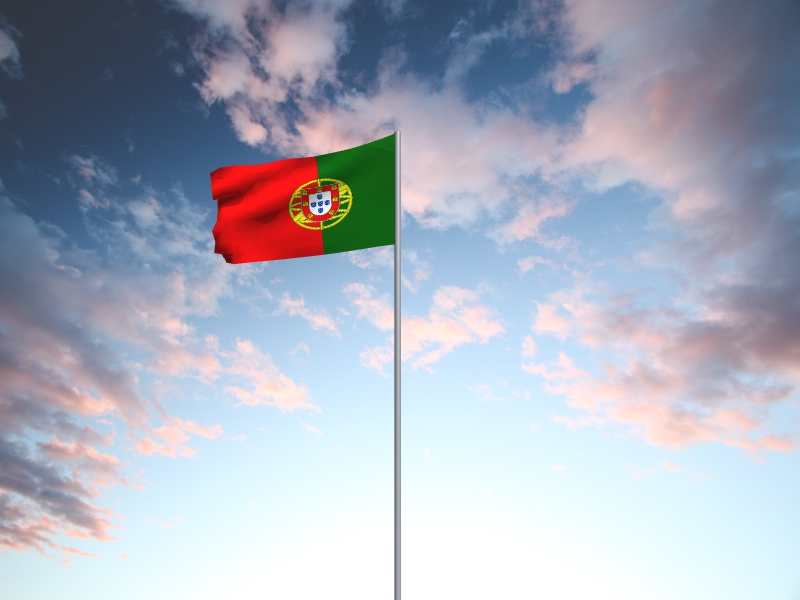pt: (210, 133, 395, 265)
